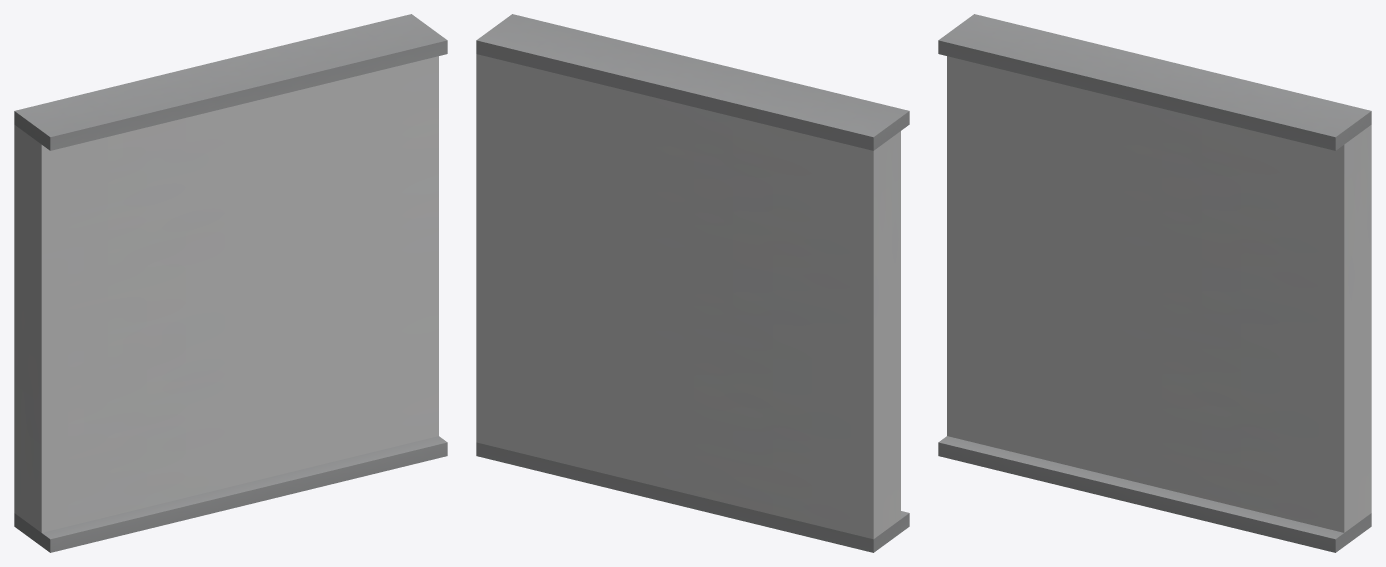
File: wall_1.glb
The picture shows the model from 3 angles, left to right: view 1: azimuth 30°, elevation 25°; view 2: azimuth 150°, elevation 25°; view 3: azimuth 330°, elevation 25°; orthographic projection.
Visible parts, largest first — view 1: wall_1; view 2: wall_1; view 3: wall_1.
Part boxes in pixels (x1,y1,x2,y2): wall_1: (14, 14, 447, 552); wall_1: (476, 14, 909, 552); wall_1: (938, 14, 1371, 552).
Bounding box in the file's own units: 2 × 2 × 0.314.
Materials: 1 (1 with a texture image).
